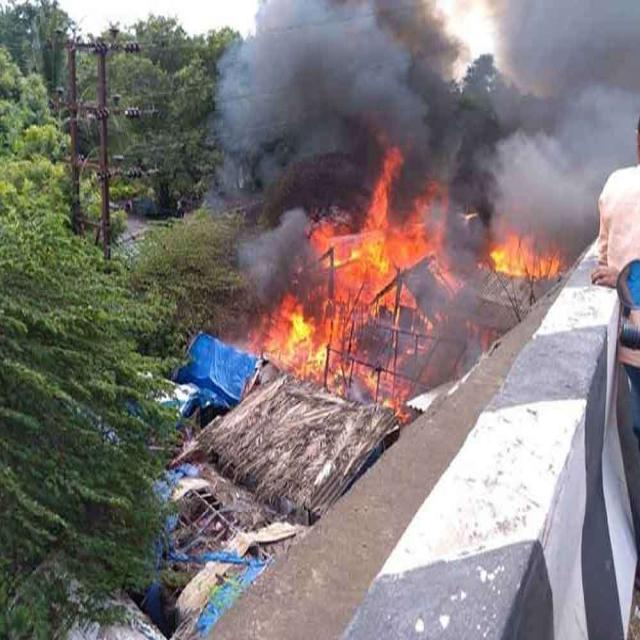fire: (314, 220, 432, 307), (278, 314, 360, 376)
smoke: (259, 9, 440, 171), (504, 6, 634, 162)
